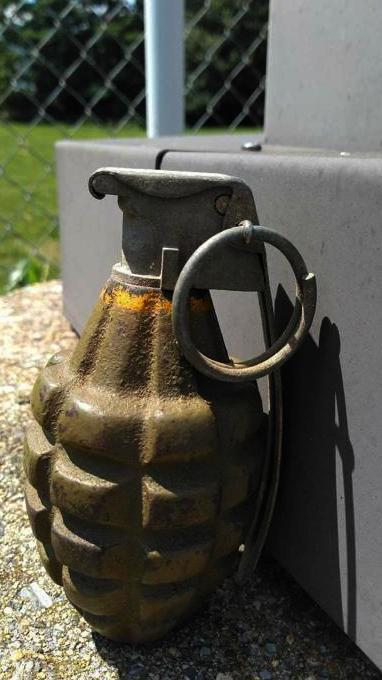Grenade: (26, 169, 317, 641)
